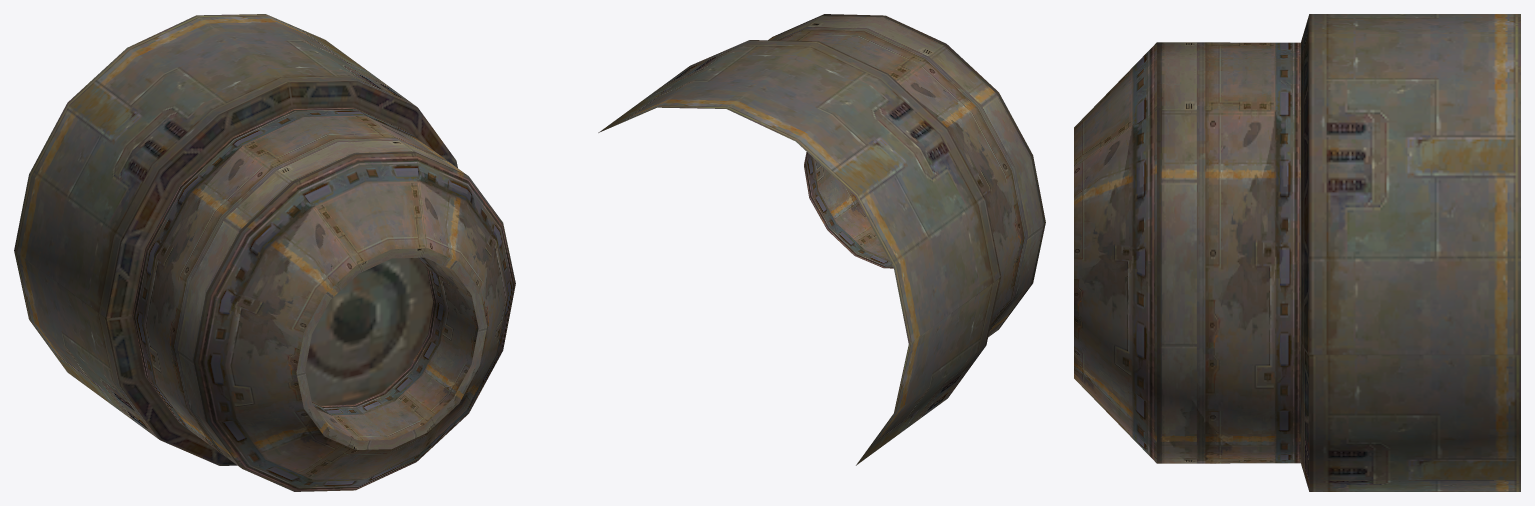
Rendered from all_arch_und_gen_parts_building_vent.glb.
3 views of the same model, side by side, from view 1: azimuth 30°, elevation 25°; view 2: azimuth 150°, elevation 25°; view 3: azimuth 270°, elevation 25° (orthographic). The views are drawn at different scales.
Parts seen in each view (by area): view 1: all_arch_und_gen_parts_building_vent; view 2: all_arch_und_gen_parts_building_vent; view 3: all_arch_und_gen_parts_building_vent.
Part boxes in pixels (left/top/right/bottom): all_arch_und_gen_parts_building_vent: left=14, top=14, right=515, bottom=491; all_arch_und_gen_parts_building_vent: left=598, top=14, right=1045, bottom=465; all_arch_und_gen_parts_building_vent: left=1074, top=14, right=1520, bottom=491.
Size of the model in its own units: 0.4535 by 0.4535 by 0.421.
1 material, 1 textured.
